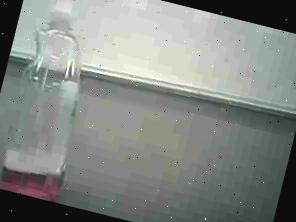hazard: (0, 0, 138, 209)
